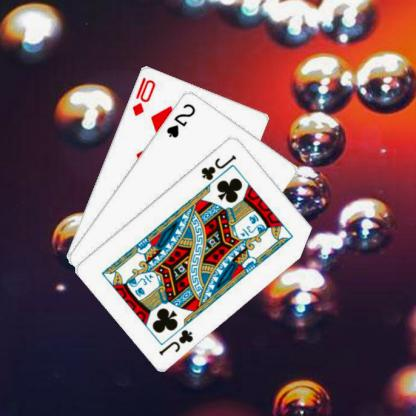10D: (129, 74, 157, 117)
2S: (164, 100, 196, 139)
JC: (156, 326, 195, 357), (198, 152, 238, 181)
